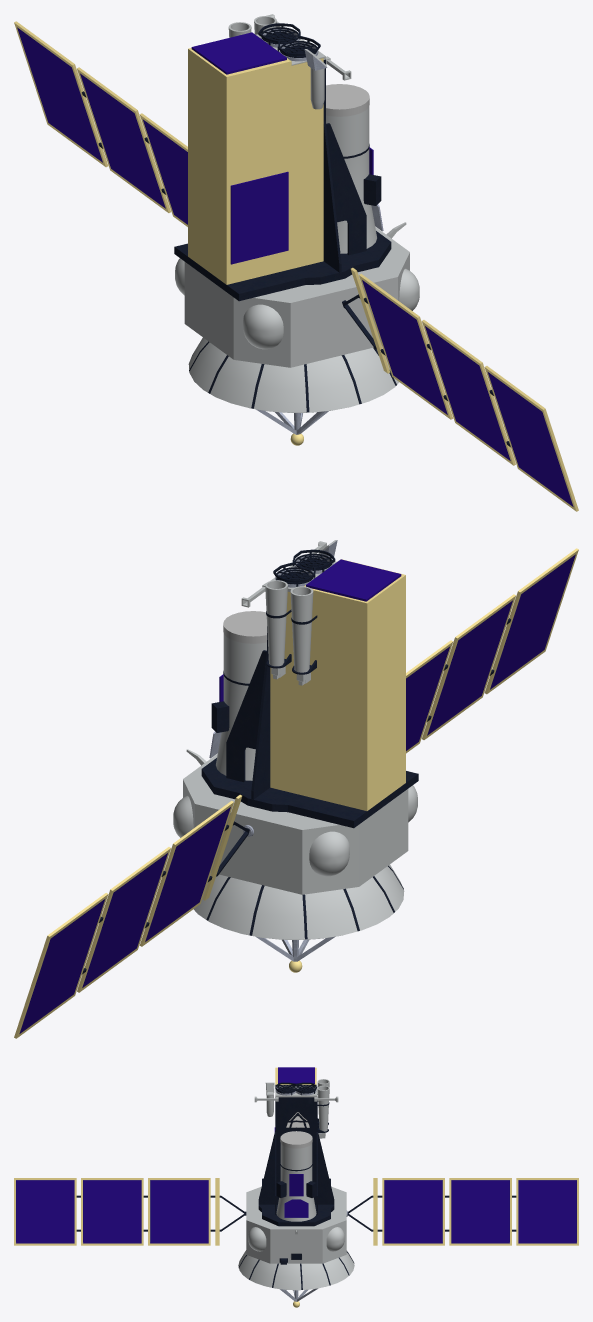
The model's file is space_satellite.glb.
3 views of the same model, one above another, from view 1: azimuth 30°, elevation 25°; view 2: azimuth 150°, elevation 25°; view 3: azimuth 270°, elevation 25° (orthographic). The views are drawn at different scales.
Parts seen in each view (by area): view 1: Object_2, Object_3; view 2: Object_2, Object_3; view 3: Object_2, Object_3.
Part boxes in pixels (x1=…): Object_2: x1=14, y1=14, x2=578, y2=511; Object_3: x1=174, y1=33, x2=409, y2=367; Object_2: x1=14, y1=540, x2=578, y2=1038; Object_3: x1=183, y1=559, x2=418, y2=894; Object_2: x1=14, y1=1067, x2=578, y2=1307; Object_3: x1=246, y1=1067, x2=346, y2=1263.
Bounding box in the file's own units: 0.9 × 1.75 × 4.06.
Materials: 2 (2 with a texture image).
